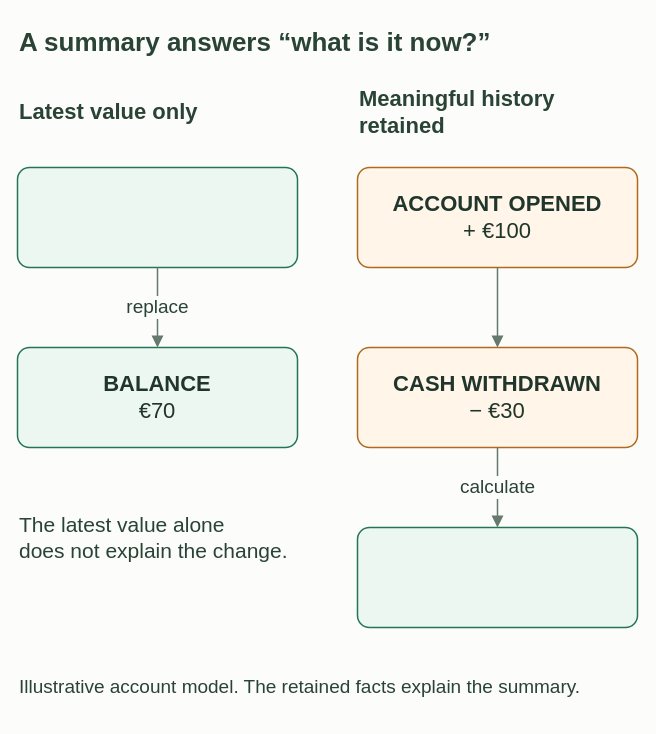
The diagram is 656 pixels wide and 734 high, and some of its shapes have lost their labels. Each missing label, with the centre of its shape:
"BALANCE €100" belongs at pixel 157 217.
"CURRENT BALANCE €70" belongs at pixel 497 577.
